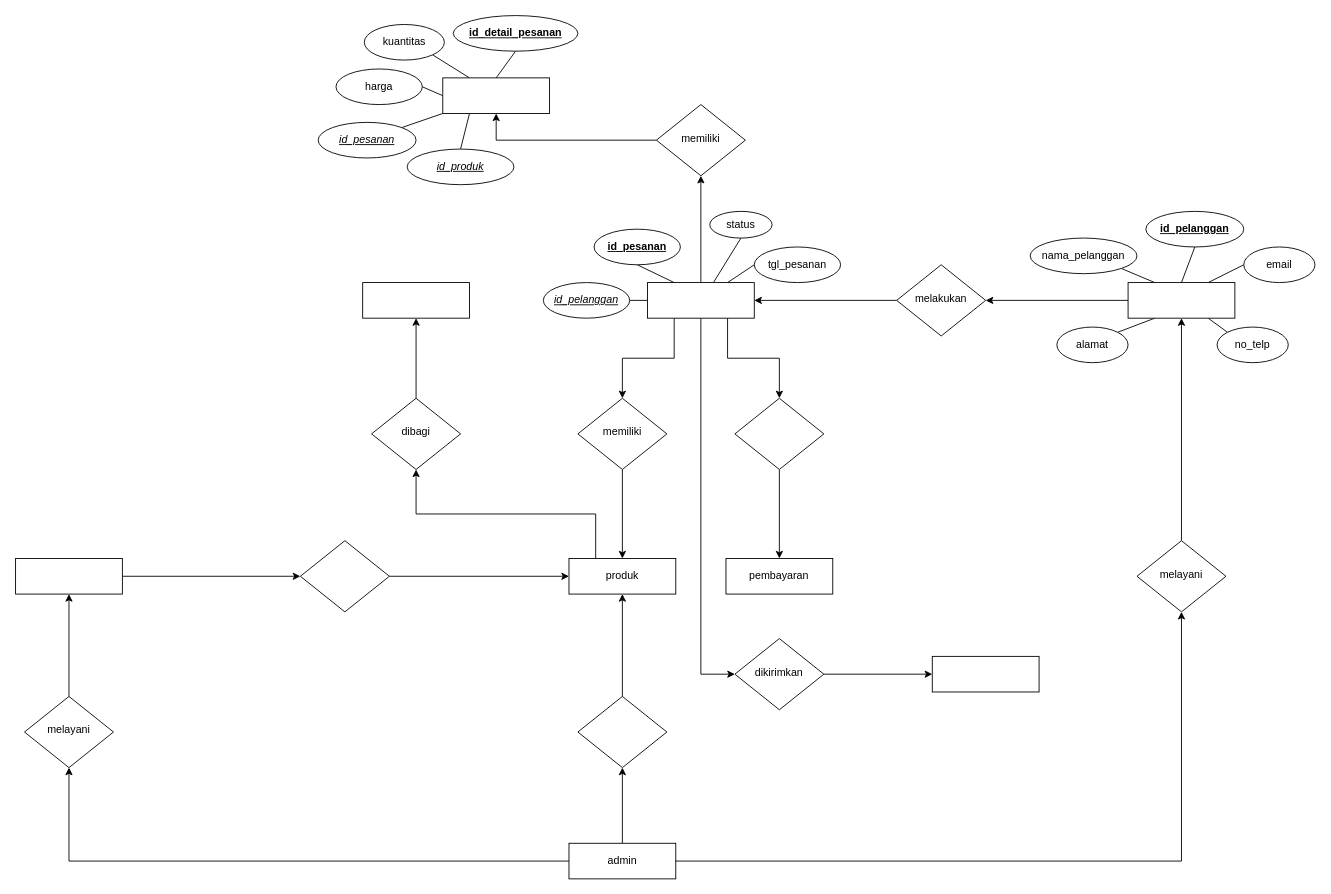
This 1331x894 diagram has some shape labels left out. The box of each missing label's shape, as (x1, y1, x2, y2) in pixels:
detail_pesanan: (442, 77, 550, 113)
ekspedisi: (931, 655, 1039, 692)
kategori: (362, 282, 469, 318)
memerlukan: (734, 397, 824, 469)
menangani: (577, 696, 667, 768)
meyediakan: (299, 540, 389, 612)
pelanggan: (1127, 282, 1235, 318)
penjual: (15, 558, 122, 594)
pesanan: (647, 282, 754, 318)
